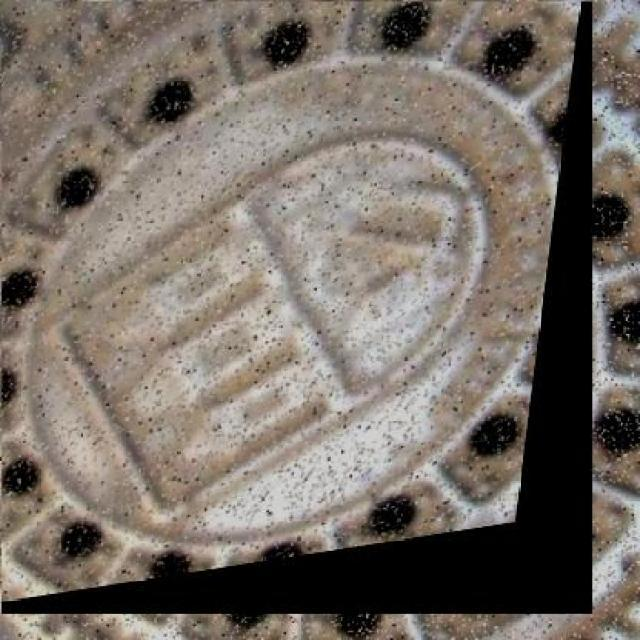Manhole: (1, 2, 592, 615)
